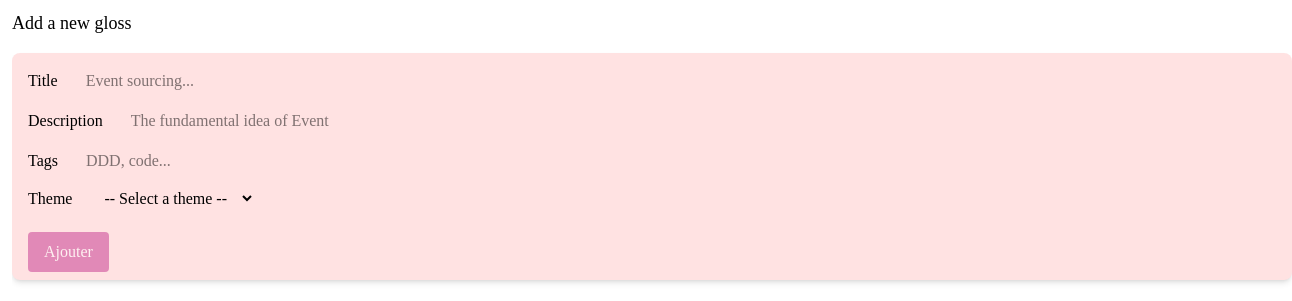
Test: Gloss Form Terms › submit button › should be disabled again when a field is cleared after being filled
This screenshot has width=1292, height=301.
Type "TDD" into the field named "title" at (186, 81), box top-left (74, 61), bottom-right (298, 101)
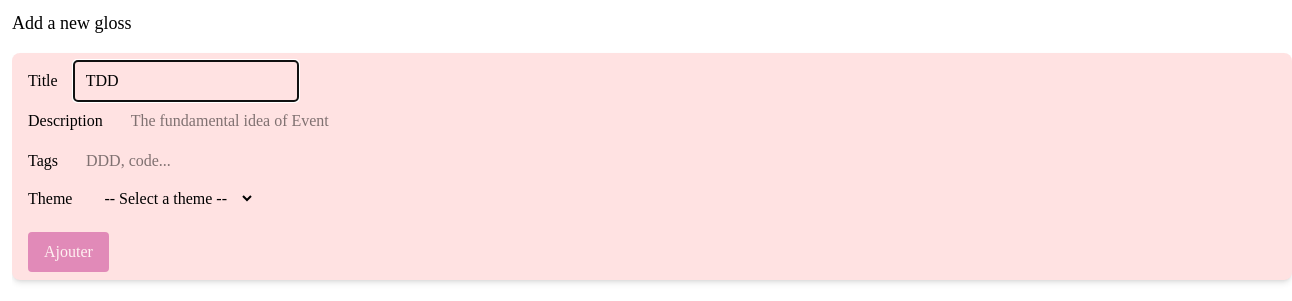
Type "Created by Kent Beck" into the field named "description" at (231, 121), box top-left (119, 101), bottom-right (343, 141)
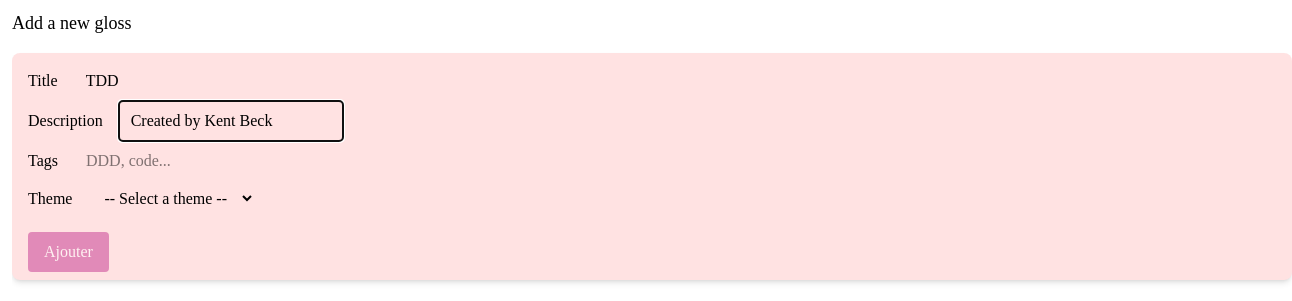
Type "XP" into the field named "tags" at (186, 161), box top-left (74, 141), bottom-right (298, 181)
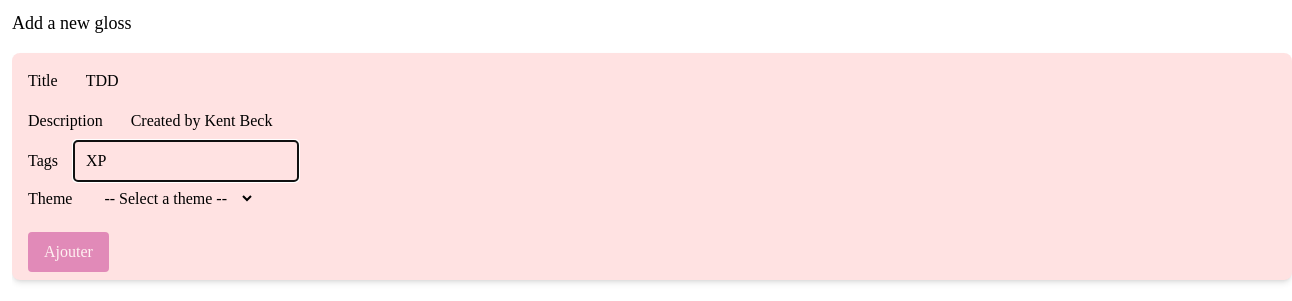
Select "CRAFT" in the dropdown labelled "Theme" at (172, 198), box top-left (88, 181), bottom-right (255, 216)
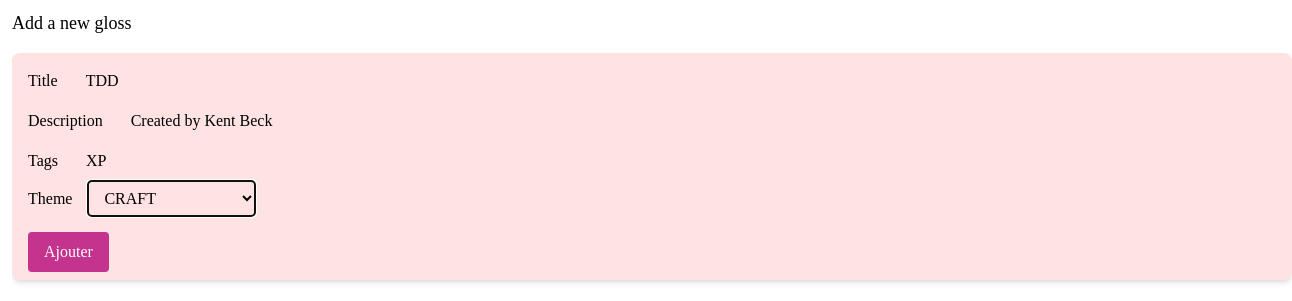
Clear the field named "title" at (186, 81), box top-left (74, 61), bottom-right (298, 101)
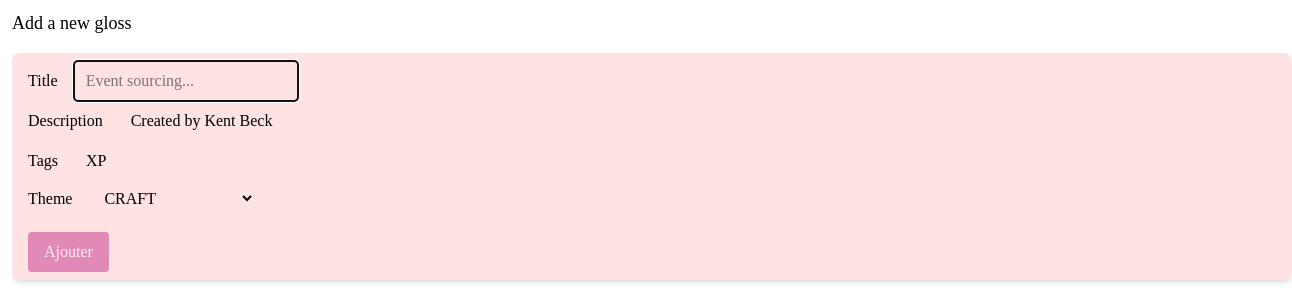
Expected: the button "Ajouter" is disabled, top-left (28, 232), bottom-right (109, 272)
